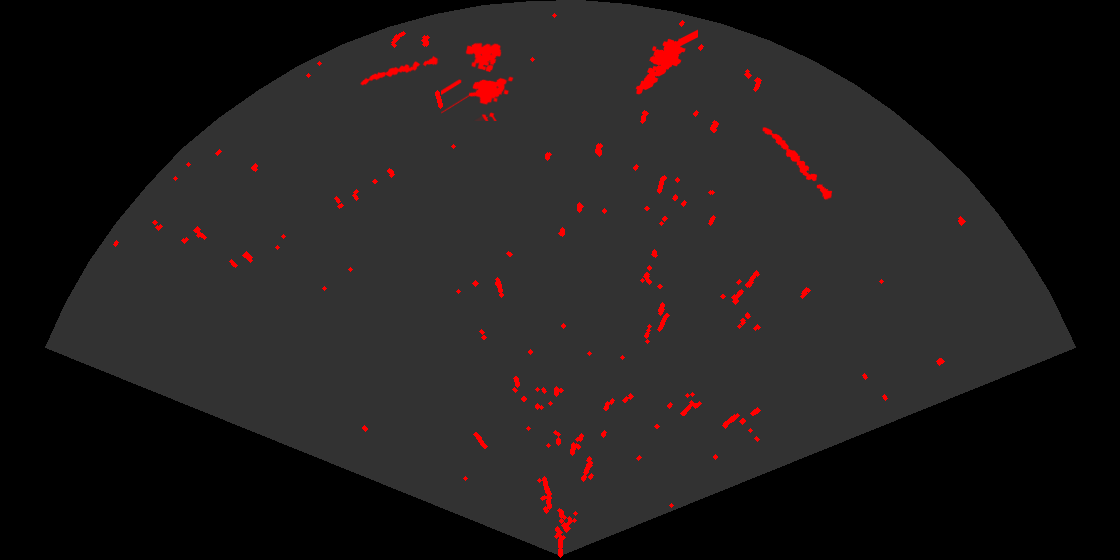cage: (441, 41, 515, 121)
chain: (761, 126, 834, 201), (359, 54, 440, 87)
frogman: (634, 28, 698, 96)
